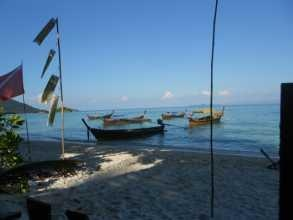otherboat: (80, 122, 170, 139)
